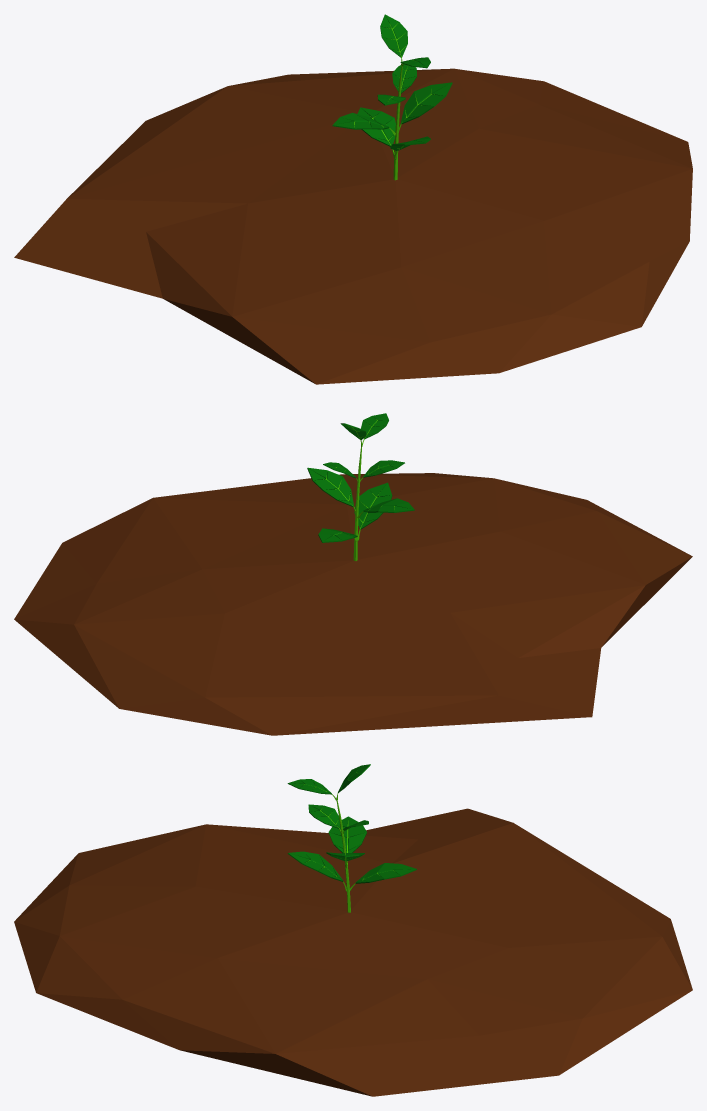
Rendered from pohon_weeding.glb.
3 views of the same model, one above another, from view 1: azimuth 30°, elevation 25°; view 2: azimuth 150°, elevation 25°; view 3: azimuth 270°, elevation 25° (orthographic). The views are drawn at different scales.
Visible parts, largest first — view 1: Daun.009; view 2: Daun.009; view 3: Daun.009.
Boxes of the visible parts, left/top/right/bottom form: Daun.009: left=14, top=14, right=692, bottom=384; Daun.009: left=14, top=413, right=692, bottom=735; Daun.009: left=14, top=764, right=692, bottom=1096.
Bounding box in the file's own units: 9.86 × 3.06 × 9.81.
